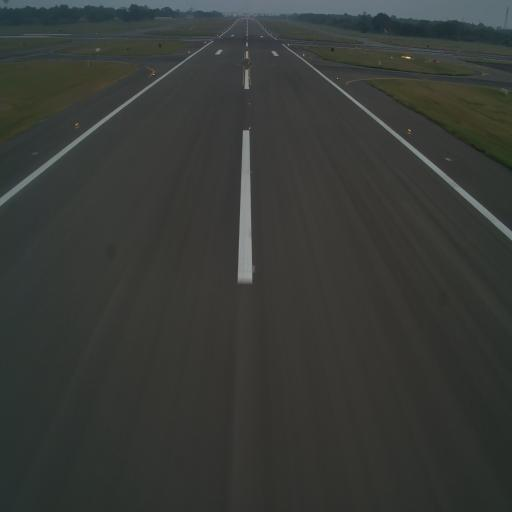off: (247, 166, 255, 178)
on: (250, 265, 257, 276), (406, 126, 413, 136), (74, 120, 80, 131), (248, 124, 252, 132), (151, 72, 156, 78), (335, 75, 340, 81), (187, 50, 191, 56), (248, 100, 251, 106), (302, 53, 305, 58), (248, 85, 250, 91), (247, 67, 250, 71), (248, 76, 250, 80)
